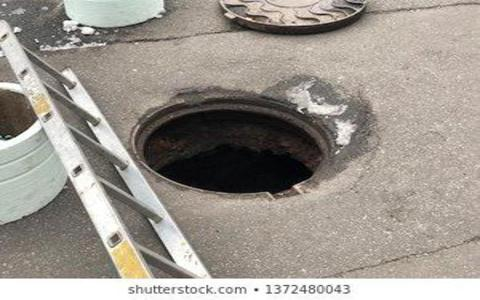open manhole: (113, 73, 350, 215)
